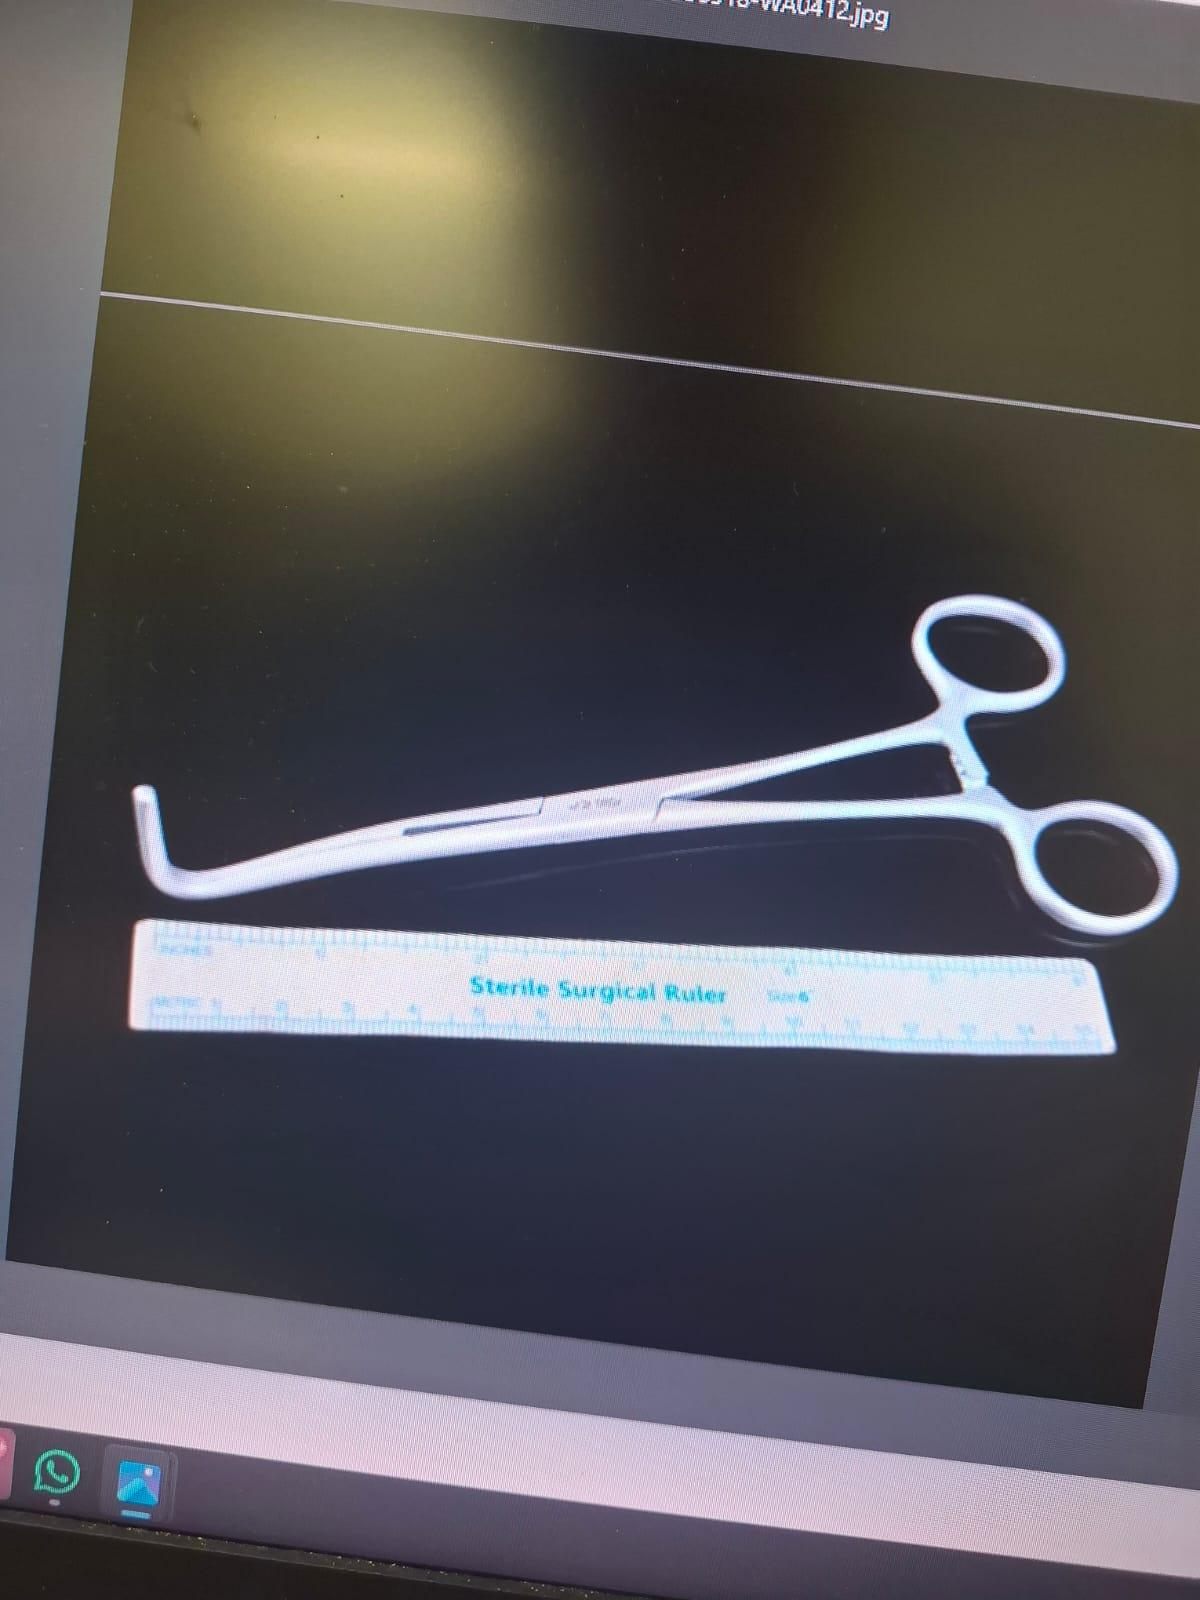Rectangle Cholecystectomy Forceps: (117, 572, 1200, 942)
